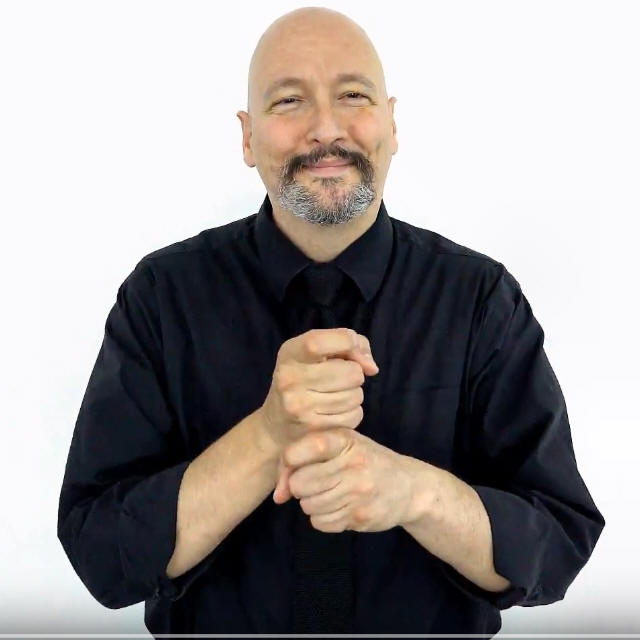joke: (264, 323, 398, 545)
